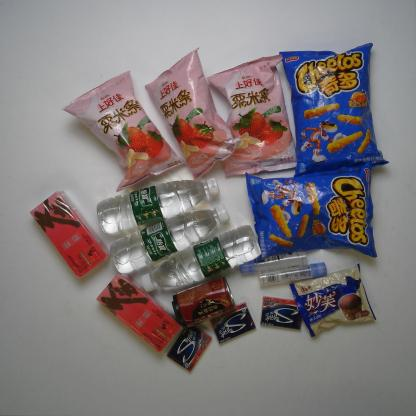Canned Food: (169, 276, 240, 329)
Dessert: (288, 262, 379, 338)
Drink: (108, 204, 232, 276), (138, 224, 262, 293), (95, 177, 221, 236)
Gum: (166, 323, 213, 374), (209, 299, 258, 345), (259, 294, 304, 333)
Instant Drink: (93, 270, 183, 352), (28, 192, 108, 279)
Puffed Food: (277, 42, 389, 180), (62, 69, 186, 192), (244, 160, 380, 262), (144, 46, 244, 180), (204, 53, 302, 178)
Stationery: (257, 262, 328, 287), (238, 252, 308, 275)
